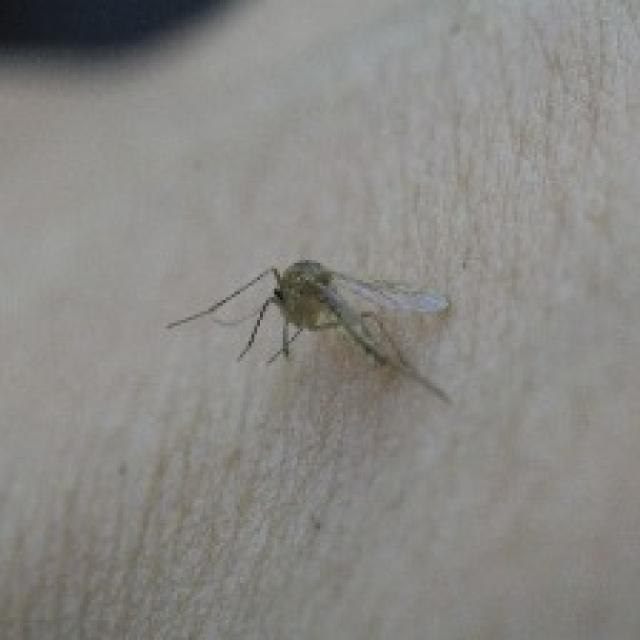culex: (163, 254, 451, 406)
